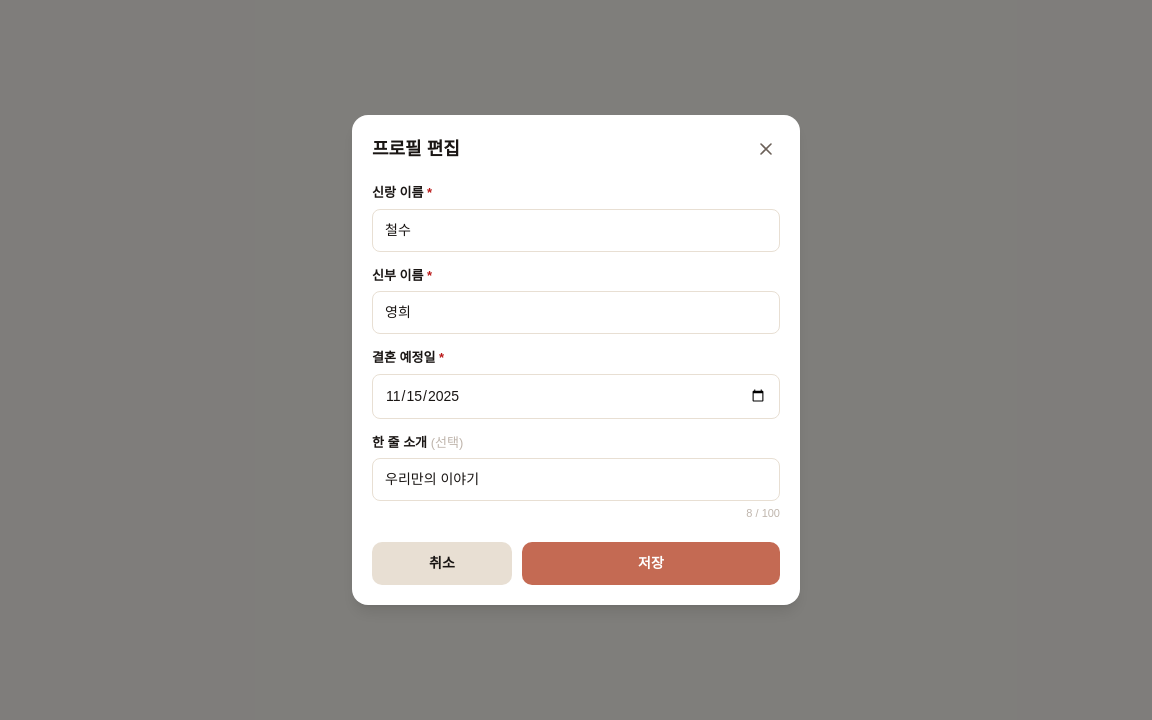
Test: CoupleProfileEditModal › 결혼 예정일 비우고 저장 → 에러 메시지
Clear the date field labelled "결혼 예정일 *" at (576, 396), box x1=372 y1=374 x2=780 y2=419
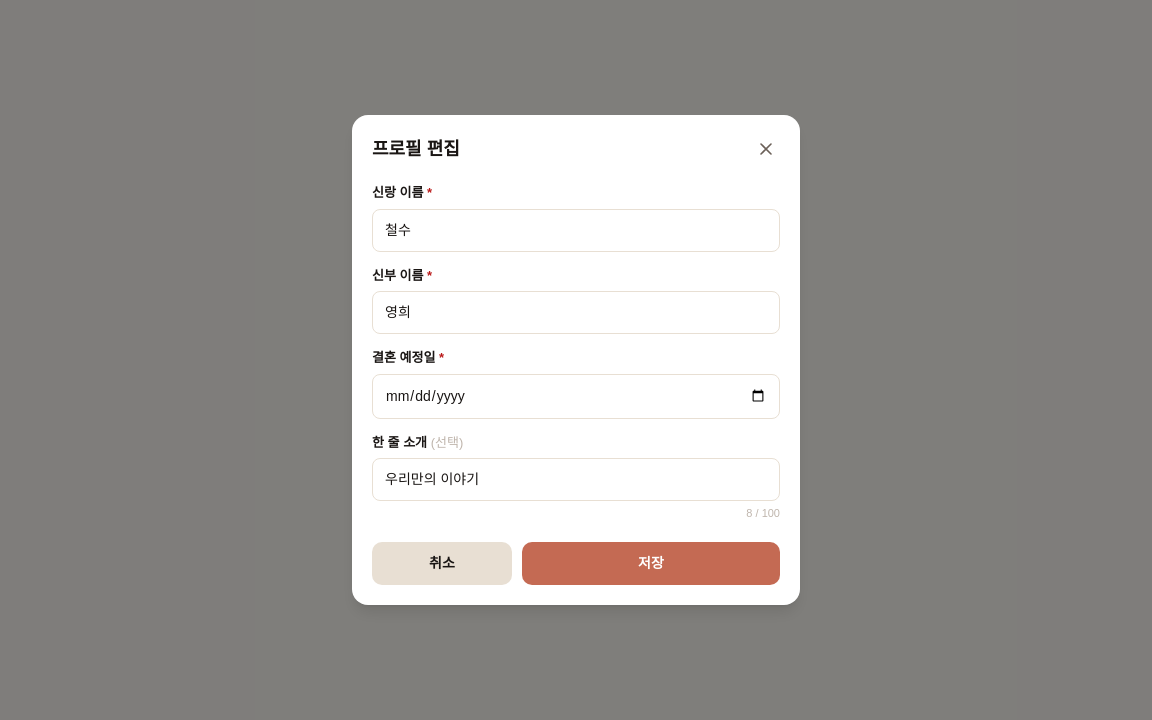
Click the button "저장" at (651, 563), box x1=522 y1=542 x2=780 y2=585
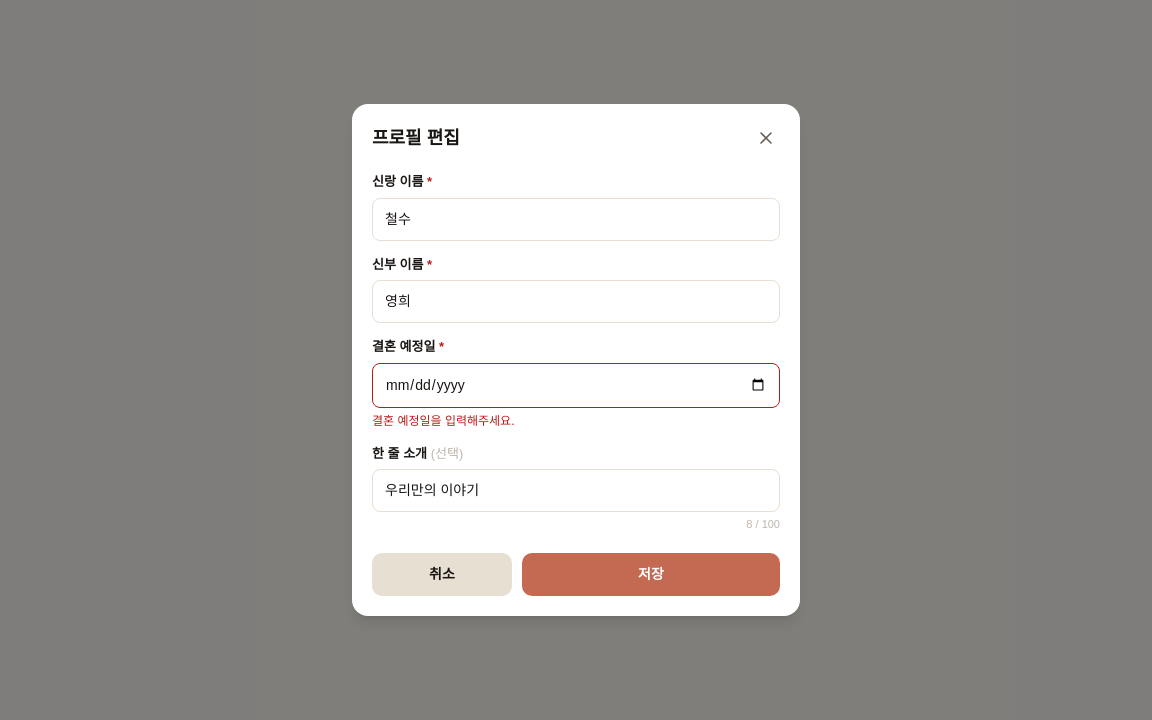
Now the text "결혼 예정일을 입력해주세요." is shown, box x1=372 y1=414 x2=514 y2=428
